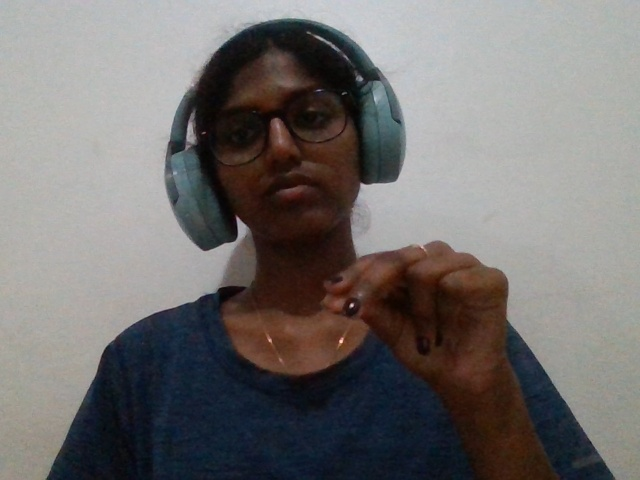No: (277, 228, 557, 440)
